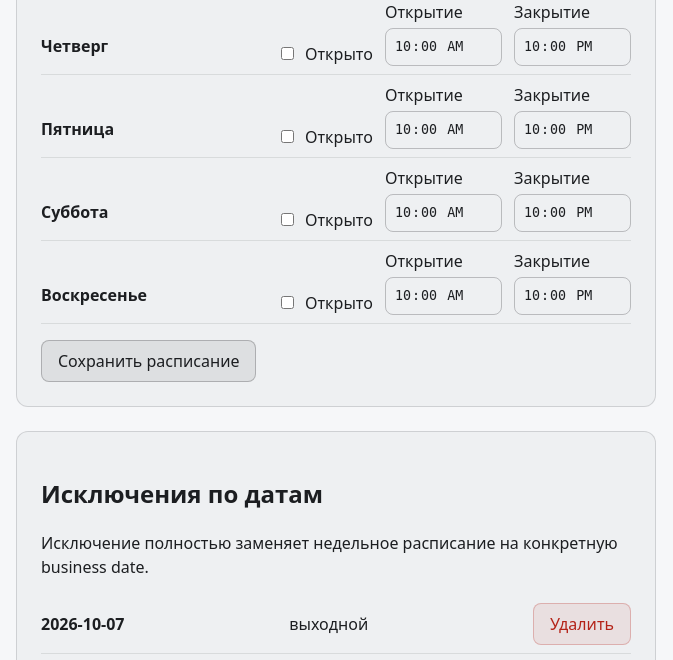
Test: SchedulePage › saves the weekly schedule with 5-minute times
The width and height of the screenshot is (673, 660).
(page scrolled)
Click the button "Сохранить расписание".
click(149, 361)  # box x1=41 y1=340 x2=256 y2=382
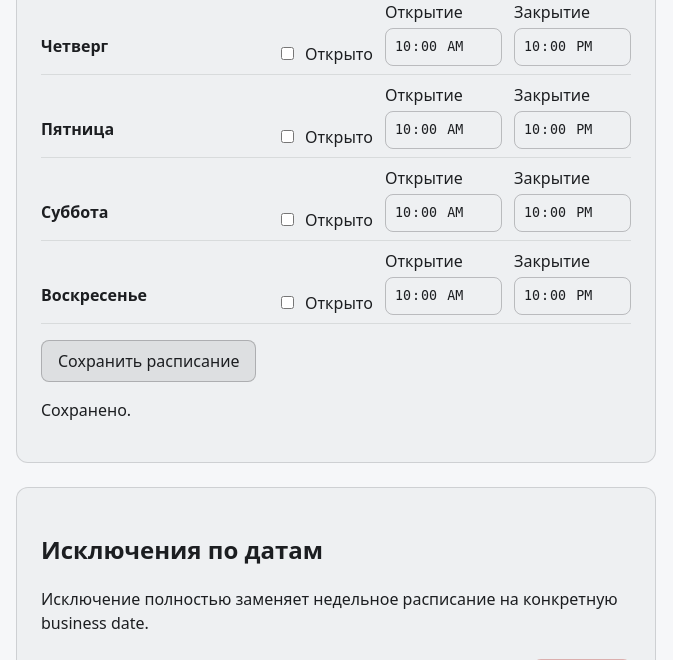
Result: the text "Сохранено." is shown at x1=41 y1=399 x2=131 y2=421
